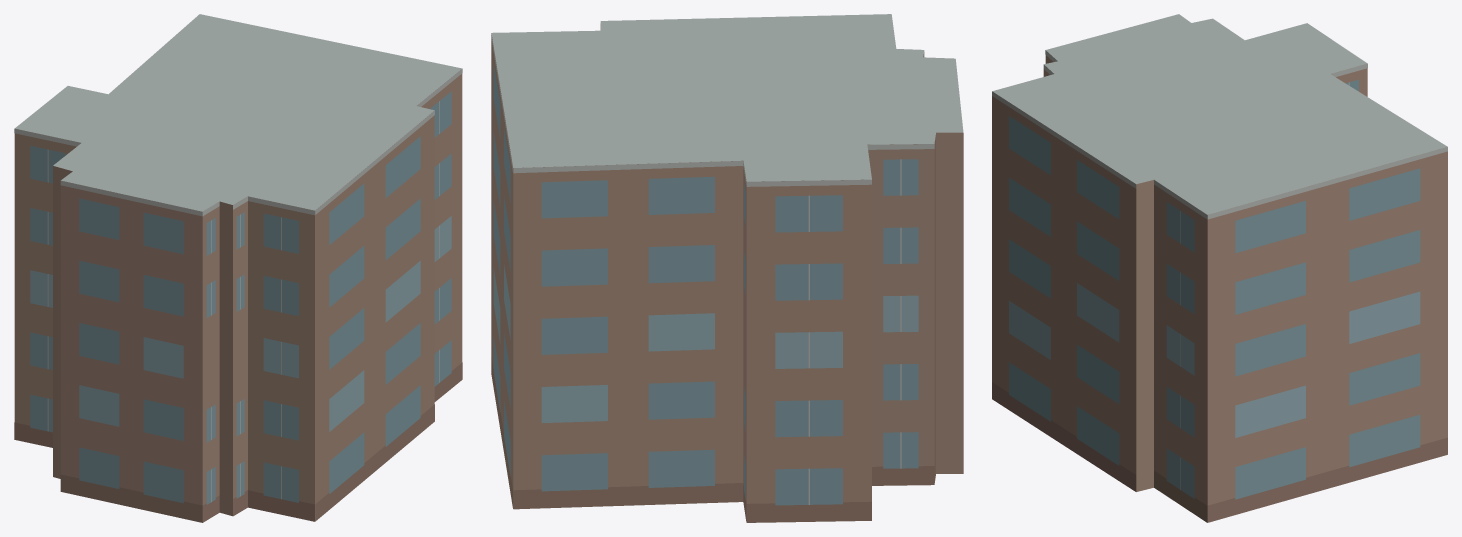
File: survey-upis-32945894.glb
3 views of the same model, side by side, from view 1: azimuth 30°, elevation 25°; view 2: azimuth 150°, elevation 25°; view 3: azimuth 270°, elevation 25° (orthographic). The views are drawn at different scales.
Parts seen in each view (by area): view 1: survey-upis-32945894.tmp; view 2: survey-upis-32945894.tmp; view 3: survey-upis-32945894.tmp.
Part boxes in pixels (x1,y1,x2,y2): survey-upis-32945894.tmp: [14, 14, 462, 522]; survey-upis-32945894.tmp: [491, 14, 963, 522]; survey-upis-32945894.tmp: [992, 14, 1447, 522].
Size of the model in its own units: 22.54 by 16.1 by 21.61.
